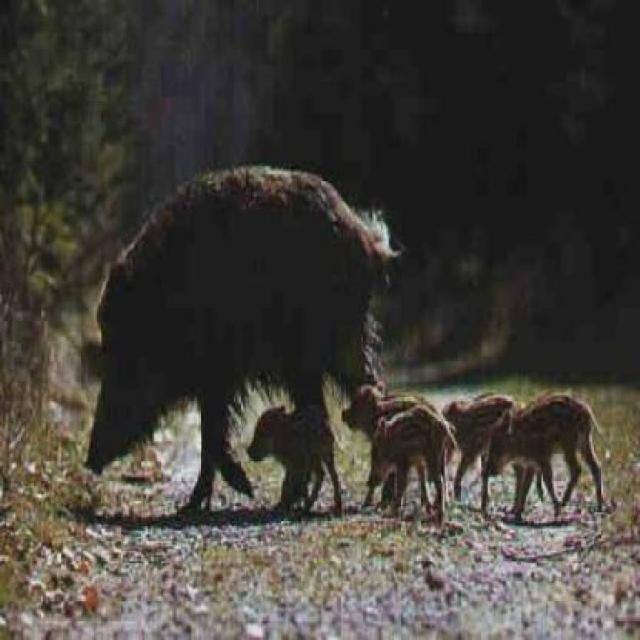pig: (0, 177, 406, 545), (471, 385, 606, 553), (226, 388, 363, 538), (349, 423, 474, 526)
